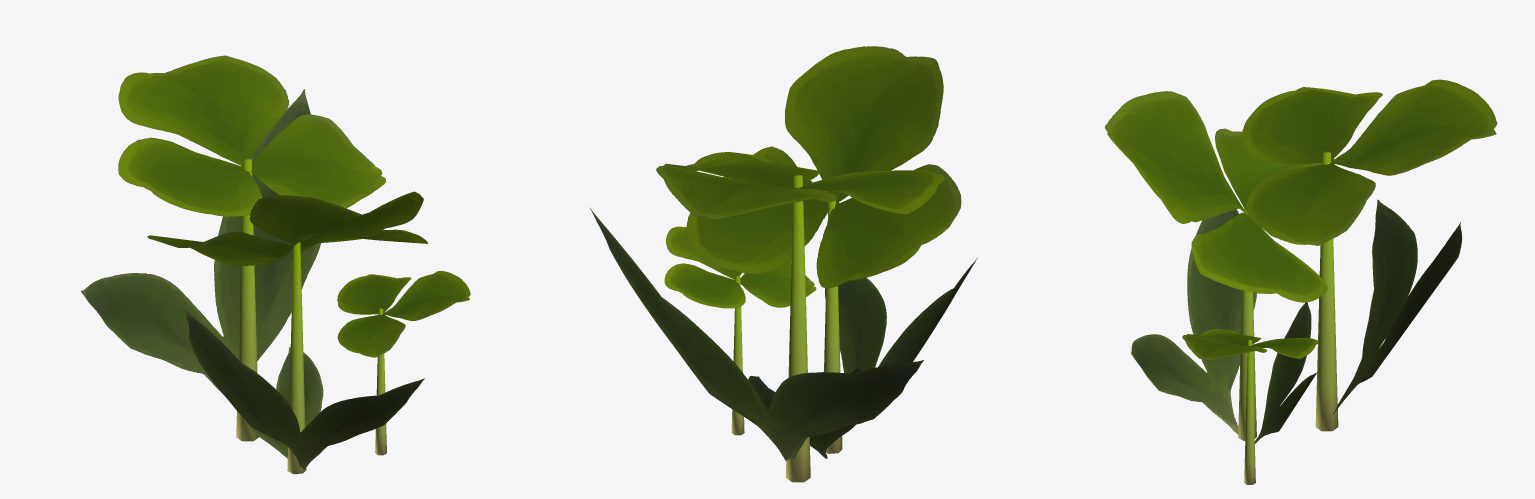
3 views of the same model, side by side, from view 1: azimuth 30°, elevation 25°; view 2: azimuth 150°, elevation 25°; view 3: azimuth 270°, elevation 25° (orthographic). The views are drawn at different scales.
Visible parts, largest first — view 1: Plante_01.001; view 2: Plante_01.001; view 3: Plante_01.001.
Boxes of the visible parts, x1=… form: Plante_01.001: x1=81, y1=55, x2=470, y2=474; Plante_01.001: x1=589, y1=46, x2=977, y2=482; Plante_01.001: x1=1104, y1=79, x2=1497, y2=484.
Bounding box in the file's own units: 56.29 × 54.98 × 60.9.
